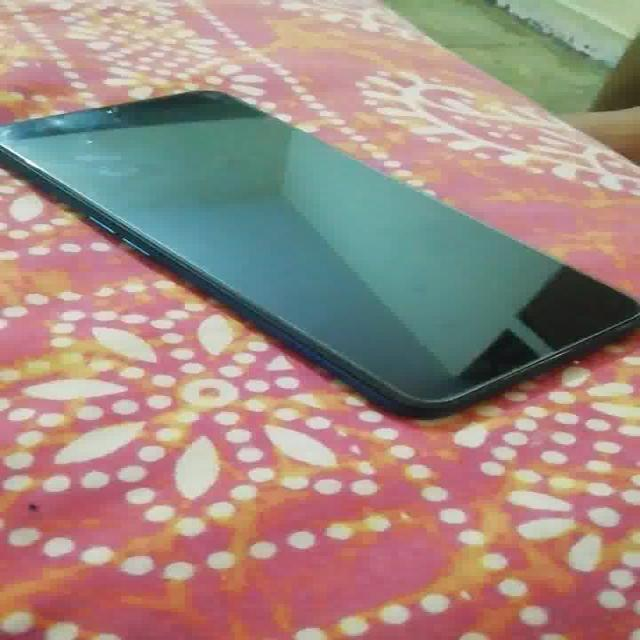Phone: (3, 83, 640, 424)
